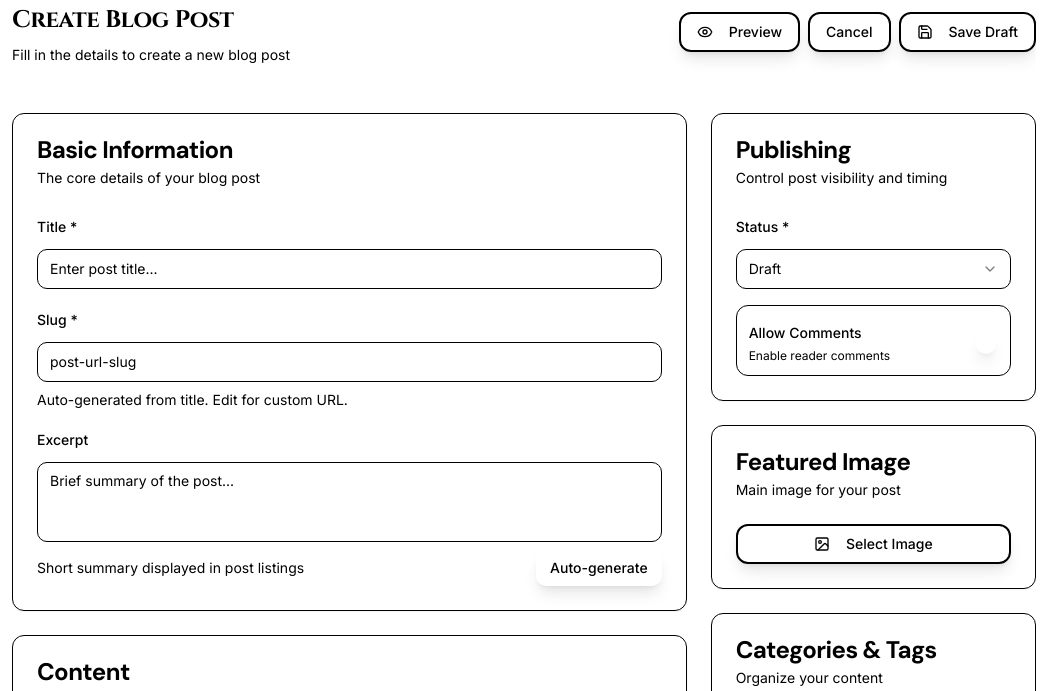
it: Blog Editor Happy Path Workflow › validates required fields before submission
This screenshot has width=1048, height=691.
Click the button "Save Draft". click: click(967, 32)
box: [898,12,1036,52]
(page scrolled)
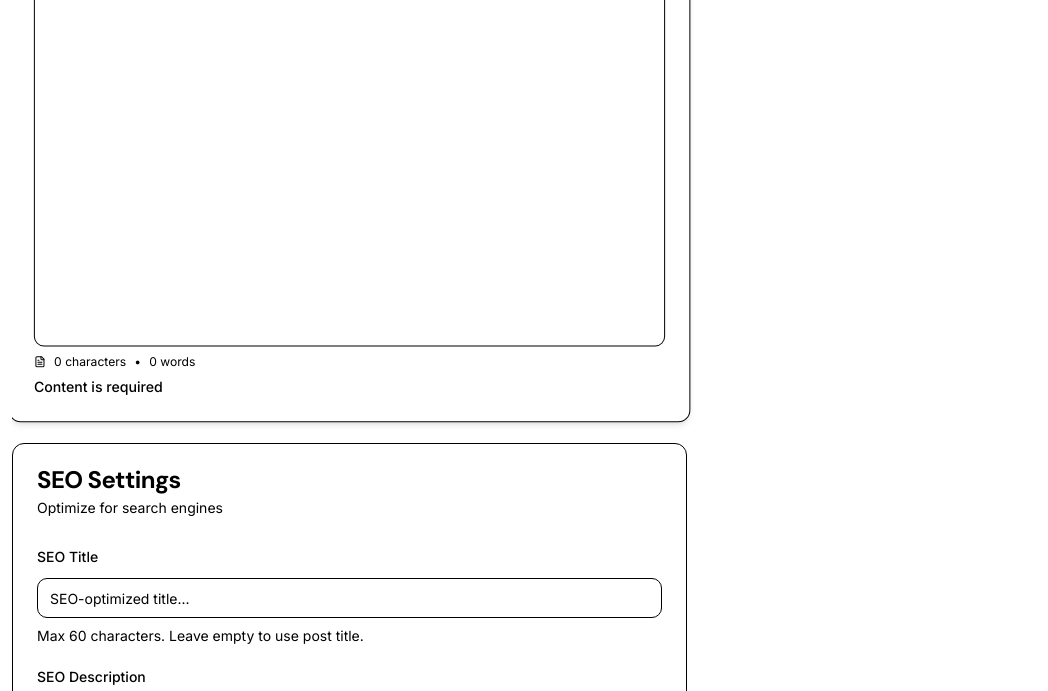
Check: the text "Content is required" is shown, box [34,378,163,396]
